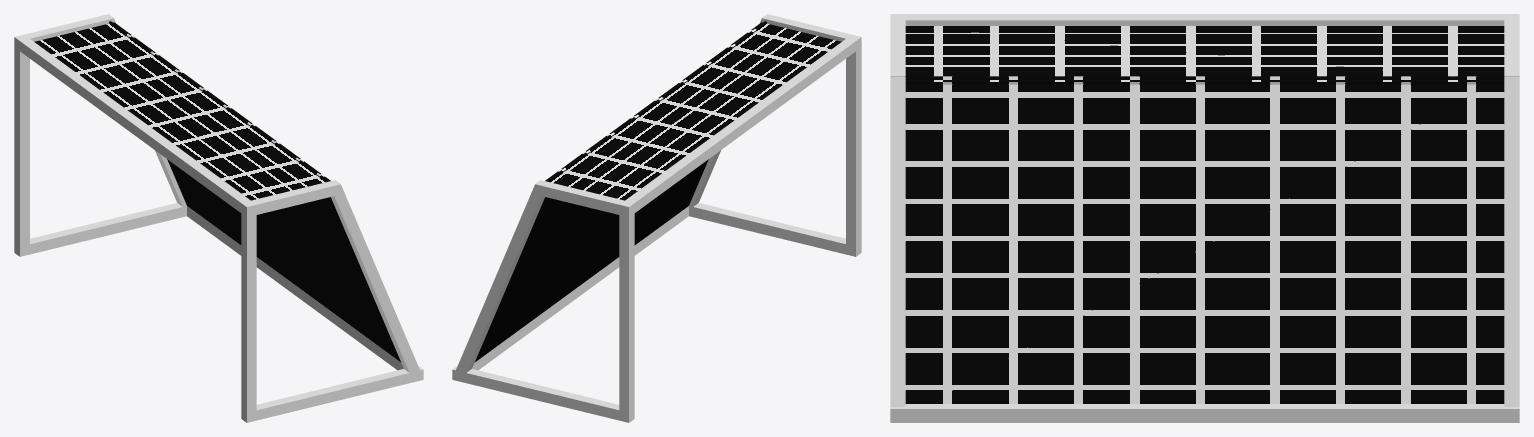
Rendered from goal.gltf.
3 views of the same model, side by side, from view 1: azimuth 30°, elevation 25°; view 2: azimuth 150°, elevation 25°; view 3: azimuth 270°, elevation 25° (orthographic). The views are drawn at different scales.
Visible parts, largest first — view 1: 56b1870f-73c1-a17b-6bf9-f73c0fb80947, 21c7ba2b-ccaf-cfd6-6f1a-e380af4c4b34, 801b0774-09ed-b173-f566-3afe1f36d744, 9004e85a-fe7b-1263-1405-c12922cae81e, cbda56fe-ca47-4630-3ee8-0e13d424e20d, 6d8387a9-91b7-2b6b-6051-06d0867aec03, 6033794a-3753-d0da-ac49-371fb1832325, 774e8de0-8156-6419-46d4-cdb1e80ad207, 7897f098-c432-c862-c7d1-d5d7b4b0fdc6, 0a5a75f1-e2bb-15b1-d313-87d59ea49e87, 987ea1ea-657c-b9f8-d981-d028455a593a, 21dd8a5c-979c-03af-3312-1003e5383f26; view 2: 56b1870f-73c1-a17b-6bf9-f73c0fb80947, 21c7ba2b-ccaf-cfd6-6f1a-e380af4c4b34, 801b0774-09ed-b173-f566-3afe1f36d744, cbda56fe-ca47-4630-3ee8-0e13d424e20d, 9004e85a-fe7b-1263-1405-c12922cae81e, 21dd8a5c-979c-03af-3312-1003e5383f26, 774e8de0-8156-6419-46d4-cdb1e80ad207, 6033794a-3753-d0da-ac49-371fb1832325, 7897f098-c432-c862-c7d1-d5d7b4b0fdc6, 987ea1ea-657c-b9f8-d981-d028455a593a, 0a5a75f1-e2bb-15b1-d313-87d59ea49e87, 6d8387a9-91b7-2b6b-6051-06d0867aec03; view 3: 21c7ba2b-ccaf-cfd6-6f1a-e380af4c4b34, 56b1870f-73c1-a17b-6bf9-f73c0fb80947, 7897f098-c432-c862-c7d1-d5d7b4b0fdc6, 801b0774-09ed-b173-f566-3afe1f36d744, 6d8387a9-91b7-2b6b-6051-06d0867aec03, 21dd8a5c-979c-03af-3312-1003e5383f26, 0a5a75f1-e2bb-15b1-d313-87d59ea49e87, 987ea1ea-657c-b9f8-d981-d028455a593a.
Boxes of the visible parts, x1=… form: 56b1870f-73c1-a17b-6bf9-f73c0fb80947: x1=34, y1=22, x2=330, y2=200; 21c7ba2b-ccaf-cfd6-6f1a-e380af4c4b34: x1=109, y1=21, x2=400, y2=361; 801b0774-09ed-b173-f566-3afe1f36d744: x1=14, y1=34, x2=256, y2=217; 9004e85a-fe7b-1263-1405-c12922cae81e: x1=241, y1=213, x2=256, y2=412; cbda56fe-ca47-4630-3ee8-0e13d424e20d: x1=14, y1=47, x2=29, y2=246; 6d8387a9-91b7-2b6b-6051-06d0867aec03: x1=331, y1=185, x2=422, y2=381; 6033794a-3753-d0da-ac49-371fb1832325: x1=241, y1=366, x2=423, y2=422; 774e8de0-8156-6419-46d4-cdb1e80ad207: x1=14, y1=203, x2=186, y2=256; 7897f098-c432-c862-c7d1-d5d7b4b0fdc6: x1=187, y1=206, x2=423, y2=381; 0a5a75f1-e2bb-15b1-d313-87d59ea49e87: x1=251, y1=180, x2=340, y2=214; 987ea1ea-657c-b9f8-d981-d028455a593a: x1=24, y1=14, x2=114, y2=41; 21dd8a5c-979c-03af-3312-1003e5383f26: x1=106, y1=19, x2=186, y2=215; 56b1870f-73c1-a17b-6bf9-f73c0fb80947: x1=545, y1=22, x2=841, y2=200; 21c7ba2b-ccaf-cfd6-6f1a-e380af4c4b34: x1=475, y1=21, x2=766, y2=361; 801b0774-09ed-b173-f566-3afe1f36d744: x1=619, y1=34, x2=861, y2=217; cbda56fe-ca47-4630-3ee8-0e13d424e20d: x1=619, y1=213, x2=634, y2=412; 9004e85a-fe7b-1263-1405-c12922cae81e: x1=846, y1=47, x2=861, y2=246; 21dd8a5c-979c-03af-3312-1003e5383f26: x1=453, y1=185, x2=544, y2=381; 774e8de0-8156-6419-46d4-cdb1e80ad207: x1=452, y1=366, x2=634, y2=422; 6033794a-3753-d0da-ac49-371fb1832325: x1=689, y1=203, x2=861, y2=256; 7897f098-c432-c862-c7d1-d5d7b4b0fdc6: x1=452, y1=206, x2=688, y2=381; 987ea1ea-657c-b9f8-d981-d028455a593a: x1=535, y1=180, x2=624, y2=214; 0a5a75f1-e2bb-15b1-d313-87d59ea49e87: x1=761, y1=14, x2=851, y2=41; 6d8387a9-91b7-2b6b-6051-06d0867aec03: x1=689, y1=19, x2=769, y2=215; 21c7ba2b-ccaf-cfd6-6f1a-e380af4c4b34: x1=905, y1=76, x2=1504, y2=403; 56b1870f-73c1-a17b-6bf9-f73c0fb80947: x1=905, y1=26, x2=1504, y2=84; 7897f098-c432-c862-c7d1-d5d7b4b0fdc6: x1=890, y1=404, x2=1519, y2=422; 801b0774-09ed-b173-f566-3afe1f36d744: x1=890, y1=14, x2=1519, y2=25; 6d8387a9-91b7-2b6b-6051-06d0867aec03: x1=890, y1=77, x2=905, y2=406; 21dd8a5c-979c-03af-3312-1003e5383f26: x1=1504, y1=77, x2=1519, y2=406; 0a5a75f1-e2bb-15b1-d313-87d59ea49e87: x1=890, y1=20, x2=905, y2=76; 987ea1ea-657c-b9f8-d981-d028455a593a: x1=1504, y1=20, x2=1519, y2=76.
Size of the model in its own units: 1.12 by 1.31 by 2.56.
2 materials, 2 textured.
